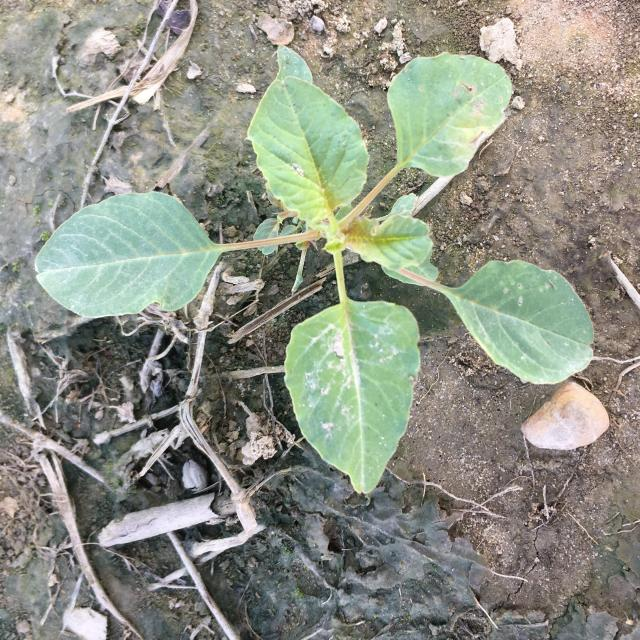PalmerAmaranth: (34, 44, 594, 494)
